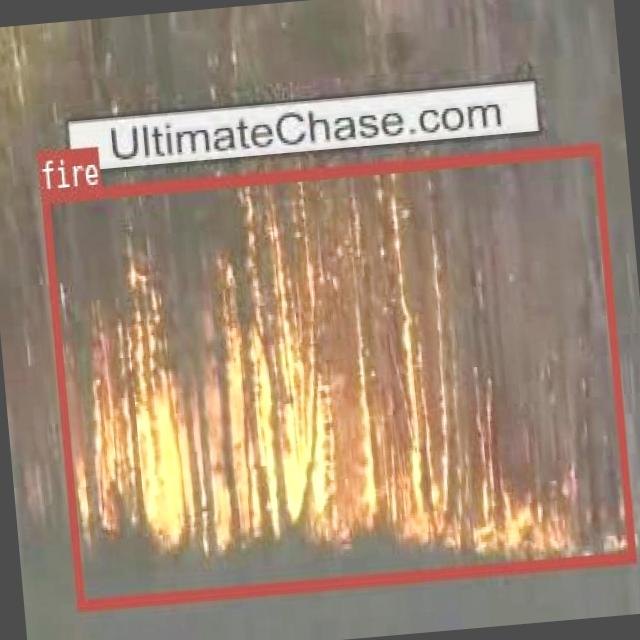fire: (39, 141, 634, 609)
